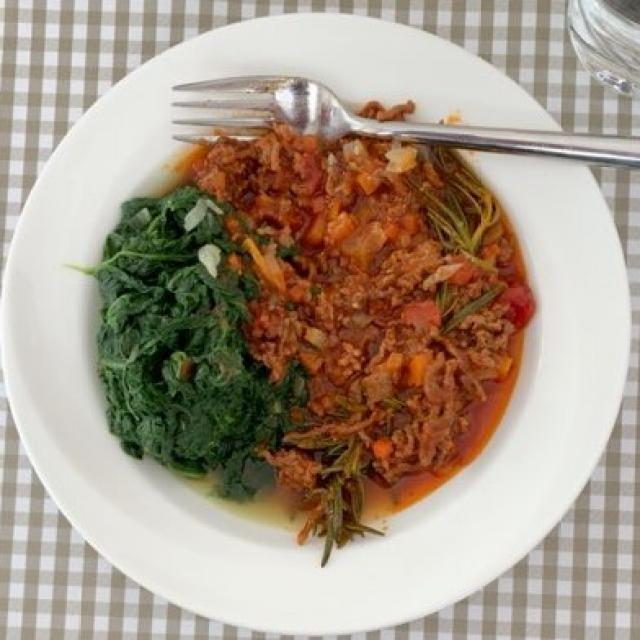bolognaise-sauce: (184, 140, 514, 512)
spinach: (101, 198, 271, 496)
